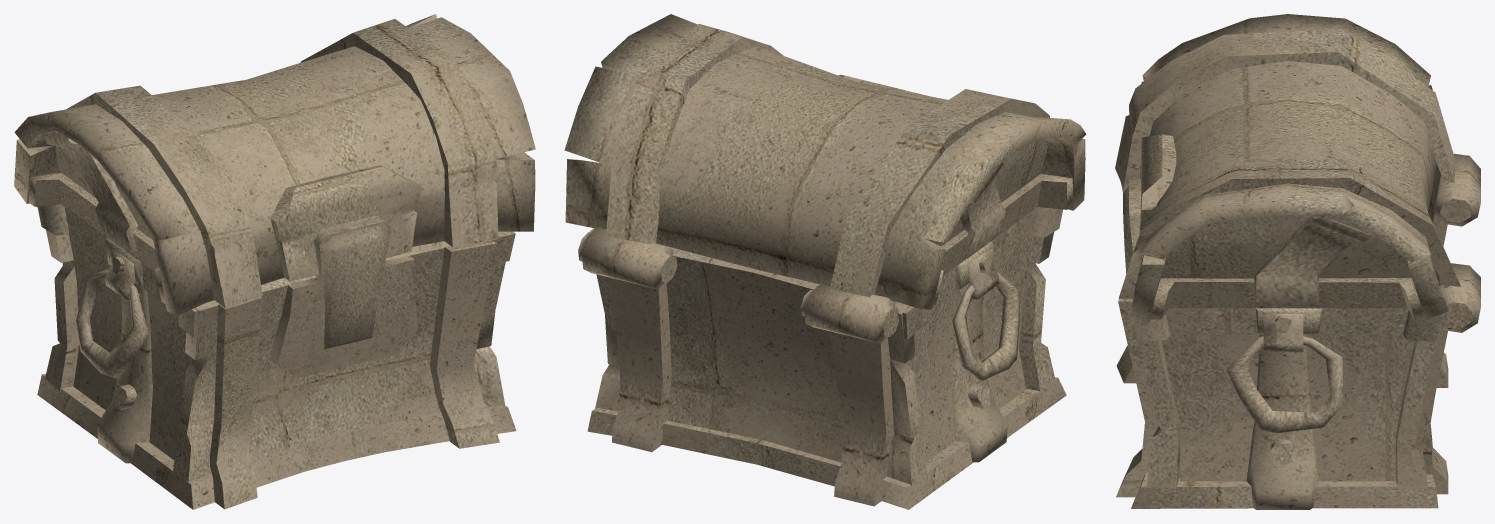
The model's file is chest.glb.
3 views of the same model, side by side, from view 1: azimuth 30°, elevation 25°; view 2: azimuth 150°, elevation 25°; view 3: azimuth 270°, elevation 25° (orthographic).
Parts seen in each view (by area): view 1: TreasureChestLootTier1; view 2: TreasureChestLootTier1; view 3: TreasureChestLootTier1.
Boxes of the visible parts, box(x1,y1,x2,y2) form: TreasureChestLootTier1: box(14, 14, 535, 509); TreasureChestLootTier1: box(564, 14, 1086, 509); TreasureChestLootTier1: box(1115, 14, 1480, 509).
Bounding box in the file's own units: 0.8378 × 0.6871 × 0.6906.
Materials: 1 (1 with a texture image).
